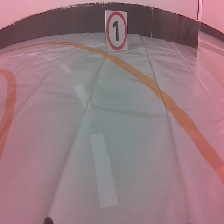limit: (102, 7, 130, 54)
